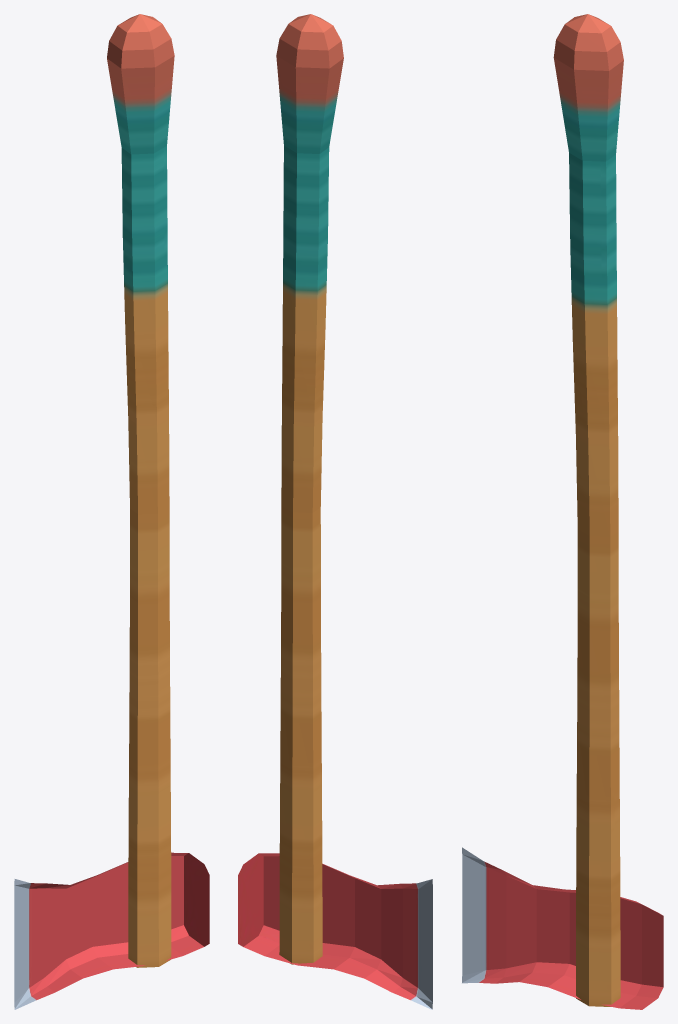
Rendered from axe.gltf.
The picture shows the model from 3 angles, left to right: view 1: azimuth 30°, elevation 25°; view 2: azimuth 150°, elevation 25°; view 3: azimuth 330°, elevation 25°; orthographic projection. The views are drawn at different scales.
Parts seen in each view (by area): view 1: Mesh; view 2: Mesh; view 3: Mesh.
Part boxes in pixels (<box>): Mesh: <box>14,14,209,1009</box>; Mesh: <box>238,14,432,1009</box>; Mesh: <box>462,14,663,1009</box>.
Size of the model in its own units: 0.221 by 1.12 by 0.0627.
1 material, 1 textured.
